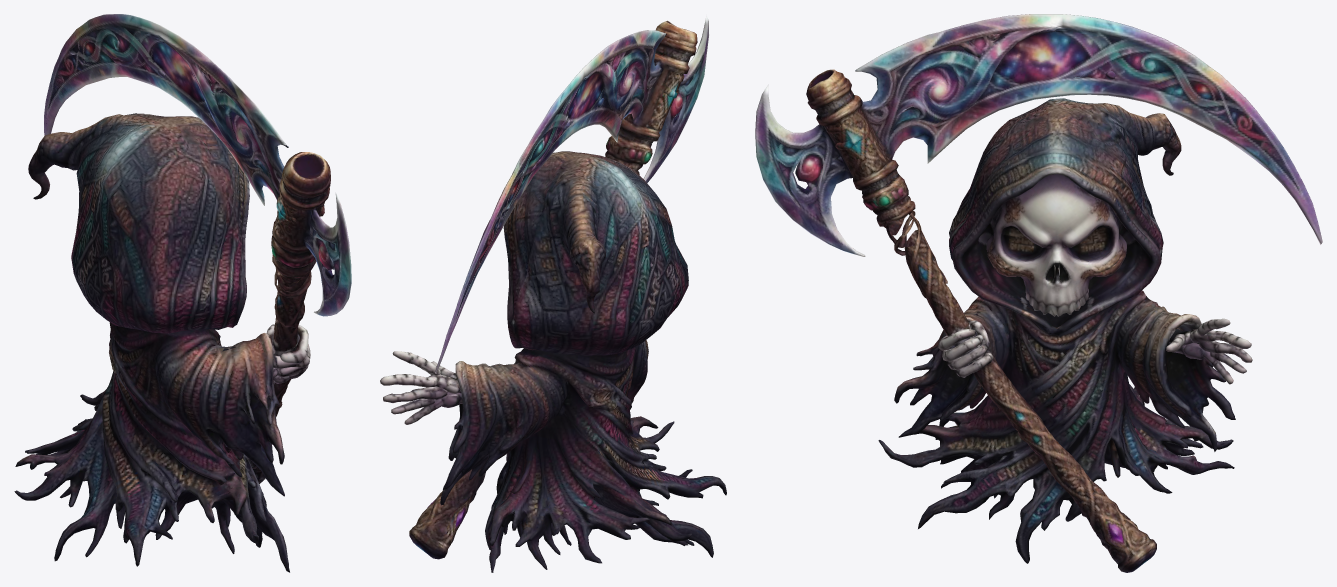
The model's file is grim+reaper+3d+model(1).glb.
3 views of the same model, side by side, from view 1: azimuth 30°, elevation 25°; view 2: azimuth 150°, elevation 25°; view 3: azimuth 270°, elevation 25° (orthographic). The views are drawn at different scales.
Visible parts, largest first — view 1: tripo_node_e296203d-6ab1-4c6e-82fd-9340adf4881b; view 2: tripo_node_e296203d-6ab1-4c6e-82fd-9340adf4881b; view 3: tripo_node_e296203d-6ab1-4c6e-82fd-9340adf4881b.
Boxes of the visible parts, x1=… form: tripo_node_e296203d-6ab1-4c6e-82fd-9340adf4881b: x1=14, y1=14, x2=351, y2=572; tripo_node_e296203d-6ab1-4c6e-82fd-9340adf4881b: x1=380, y1=14, x2=726, y2=572; tripo_node_e296203d-6ab1-4c6e-82fd-9340adf4881b: x1=755, y1=14, x2=1322, y2=572.
Bounding box in the file's own units: 0.5251 × 0.9736 × 0.9774.
Materials: 1 (1 with a texture image).
